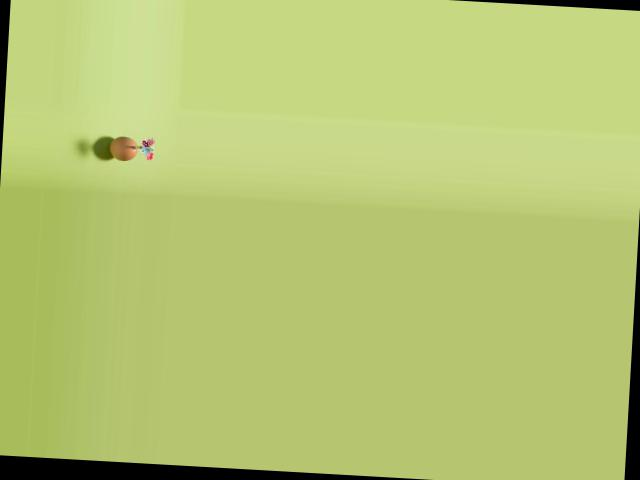egg: (109, 135, 138, 161)
